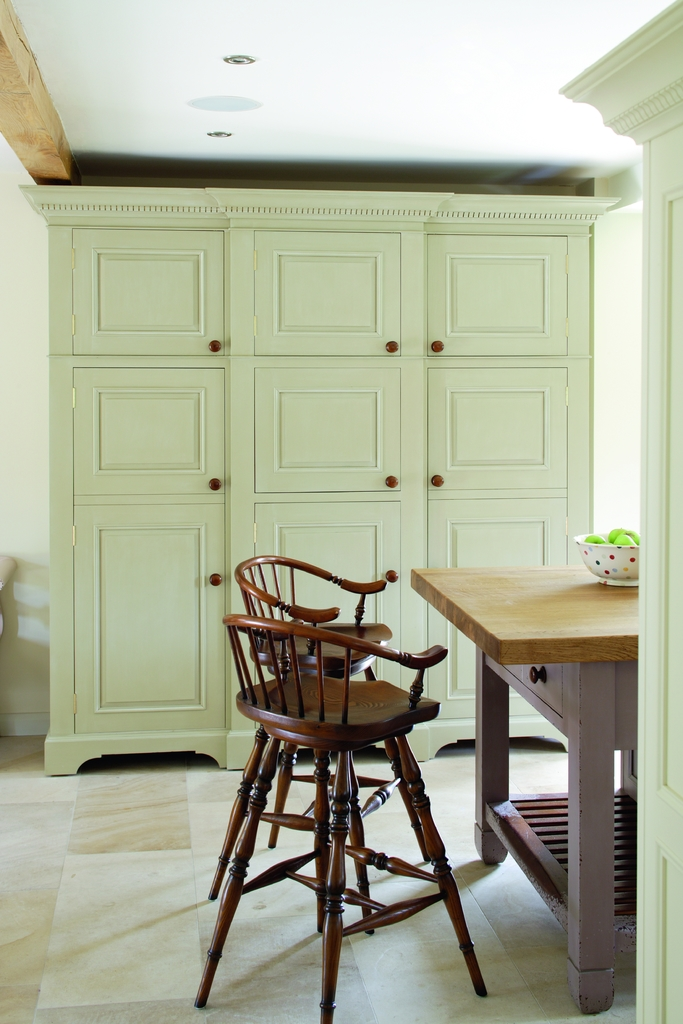Cabinetry: (0, 173, 633, 781), (474, 643, 600, 724)
